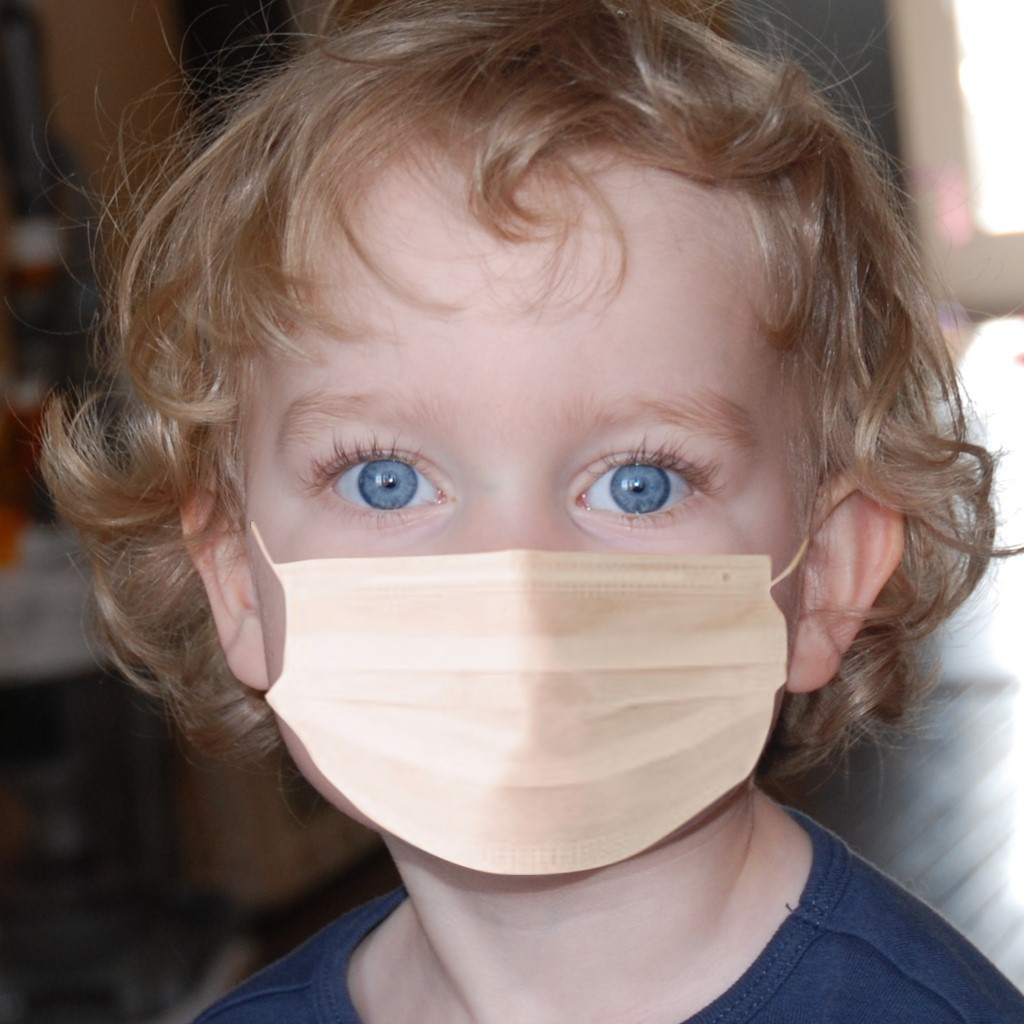con_mascara: (175, 102, 874, 882)
